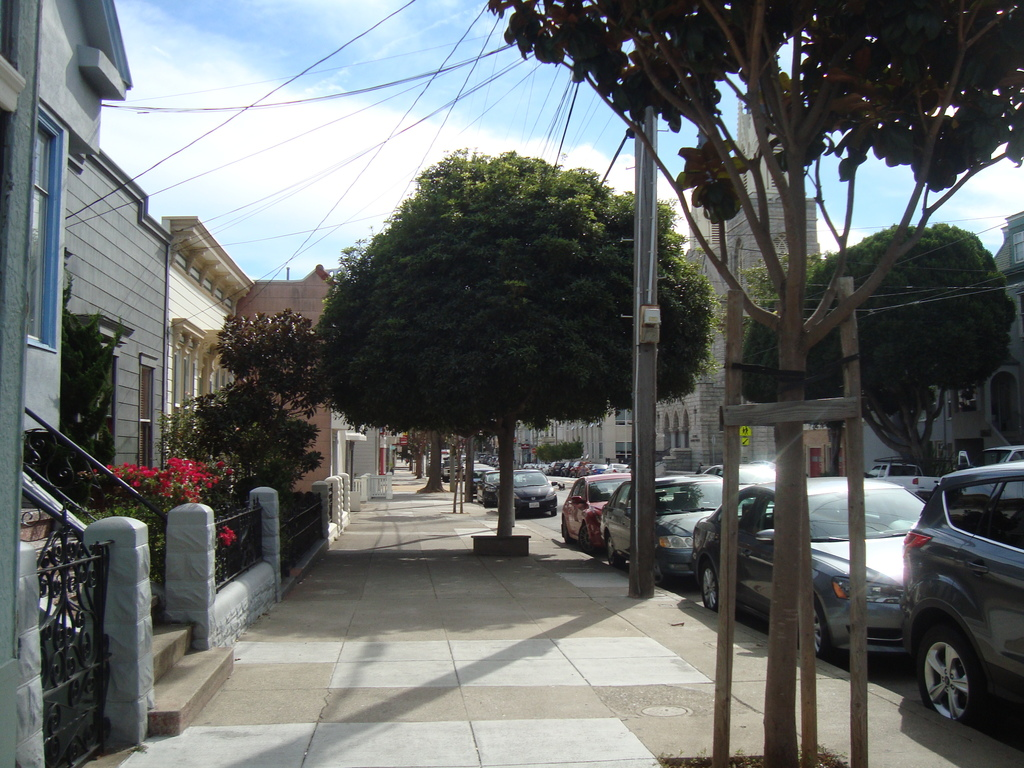Car: (685, 478, 949, 666), (888, 463, 1023, 741), (590, 471, 730, 587), (562, 469, 622, 541), (503, 467, 556, 524), (452, 462, 496, 501), (460, 474, 504, 512), (435, 455, 460, 494)
